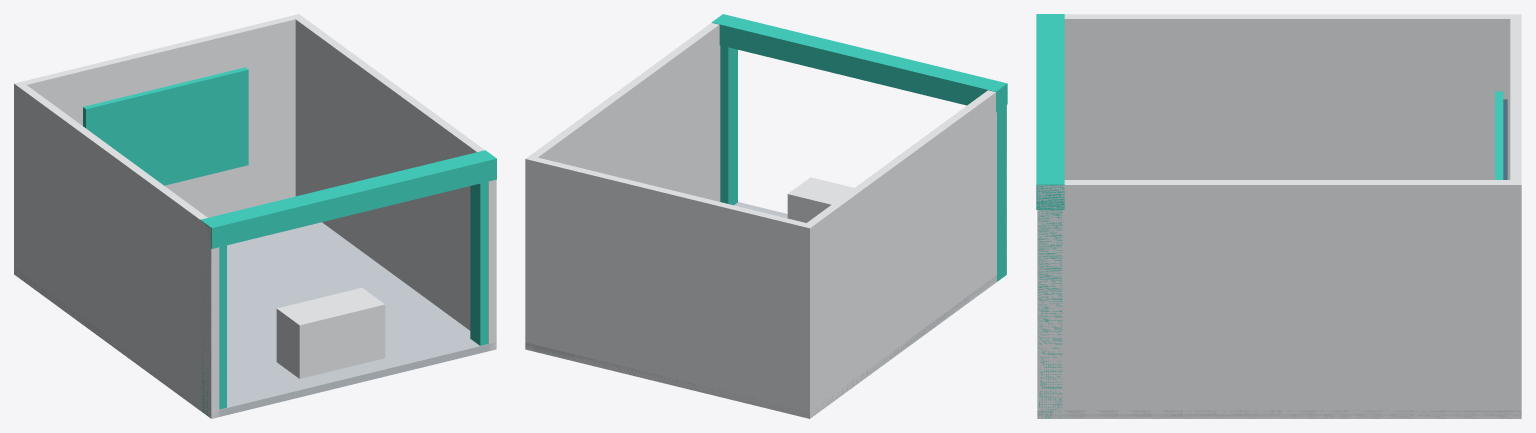
3 views of the same model, side by side, from view 1: azimuth 30°, elevation 25°; view 2: azimuth 150°, elevation 25°; view 3: azimuth 270°, elevation 25° (orthographic). The views are drawn at different scales.
Visible parts, largest first — view 1: Exhibition Booth Concept; view 2: Exhibition Booth Concept; view 3: Exhibition Booth Concept.
Part boxes in pixels (box(x1,y1,x2,y2)): Exhibition Booth Concept: box(14, 14, 496, 418); Exhibition Booth Concept: box(525, 14, 1007, 418); Exhibition Booth Concept: box(1036, 14, 1521, 418).
Bounding box in the file's own units: 5 × 3.2 × 6.02.
